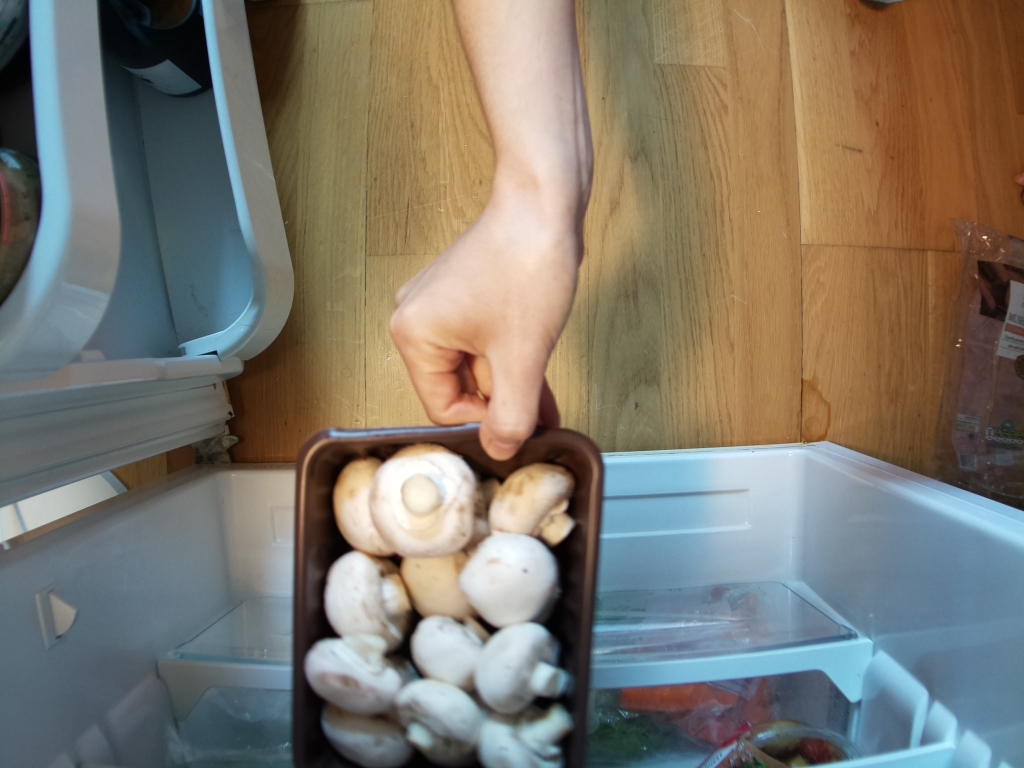mushrooms: (280, 416, 601, 768)
